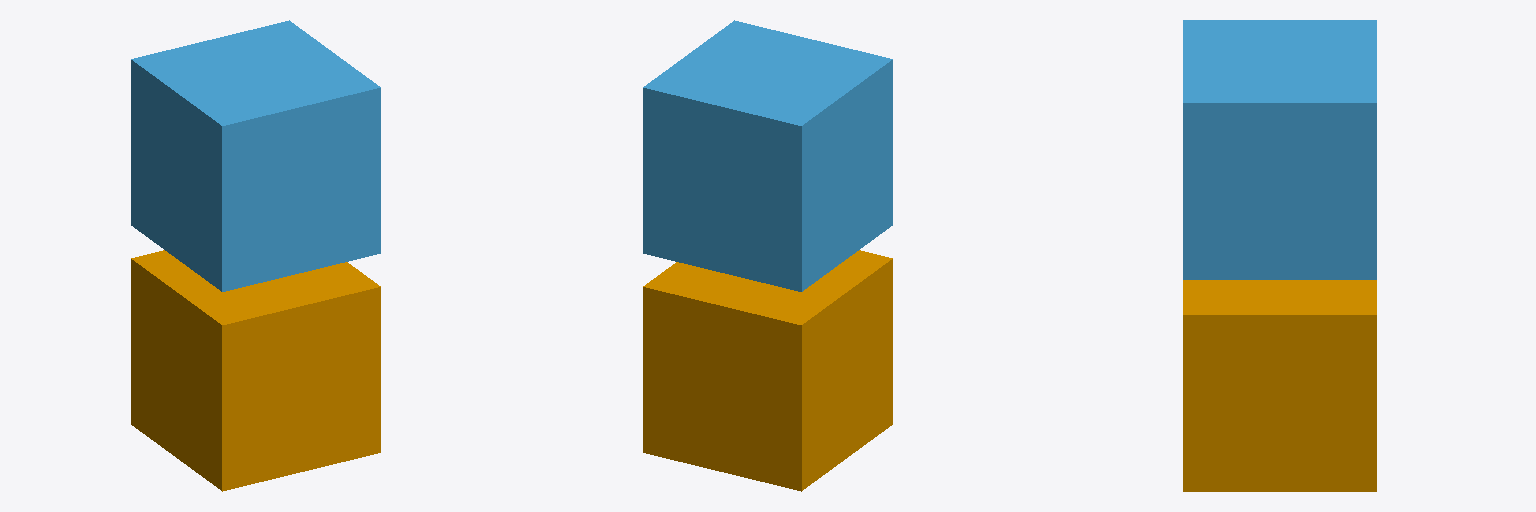
The robot description file, URDF, robot "visual_collision_name":
<?xml version="1.0"?>
<robot name="visual_collision_name">
  <link name="RootLink">
    <visual>
      <geometry>
        <box size="0.5 0.5 0.5"/>
      </geometry>
    </visual>
    <collision>
      <geometry>
        <box size="0.5 0.5 0.5"/>
      </geometry>
    </collision>
  </link>
  <link name="link">
    <!-- Specify a name in visual -->
    <visual name="box_name_visual">
      <geometry>
        <box size="0.5 0.5 0.5"/>
      </geometry>
    </visual>
    <!-- Specify a name in collision -->
    <collision name="box_name_collision">
      <geometry>
        <box size="0.5 0.5 0.5"/>
      </geometry>
    </collision>
  </link>

  <joint name="joint" type="fixed">
    <origin xyz="0 0 0.6"/>
    <parent link="RootLink"/>
    <child link="link"/>
  </joint>
</robot>

--- What the picture shows (computed from the rendered views, not written in the file) ---
Views: 3 orthographic renders of the robot side by side, from view 1: azimuth 30°, elevation 25°; view 2: azimuth 150°, elevation 25°; view 3: azimuth 270°, elevation 25°.
Model visual_collision_name with 2 links and 1 joints (1 fixed), rooted at RootLink, posed every joint at zero.
Visible links, largest first — view 1: link, RootLink; view 2: link, RootLink; view 3: link, RootLink.
Link boxes in pixels (x1,y1,x2,y2): link: [131, 20, 380, 291]; RootLink: [131, 250, 380, 491]; link: [643, 20, 892, 291]; RootLink: [643, 250, 892, 491]; link: [1183, 20, 1376, 279]; RootLink: [1183, 280, 1376, 491].
Size in the robot's own frame: 0.5 by 0.5 by 1.1 metres.
Geometry: primitives only (box / cylinder / sphere), no mesh files.